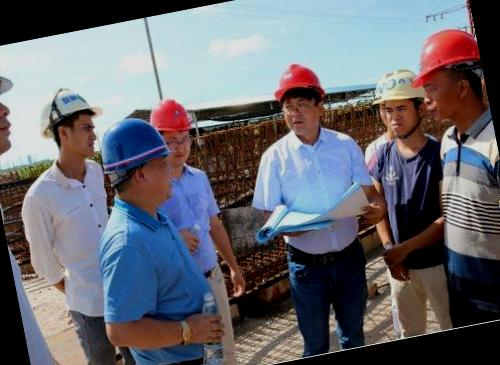helmet: (80, 112, 176, 190), (402, 19, 486, 99), (24, 84, 104, 140), (262, 58, 333, 114), (364, 60, 429, 118)
no_vest: (82, 203, 221, 361), (252, 124, 382, 292), (10, 156, 130, 330), (419, 104, 500, 281), (363, 138, 458, 256)
person: (238, 53, 390, 360), (64, 106, 230, 365), (346, 61, 467, 340)
